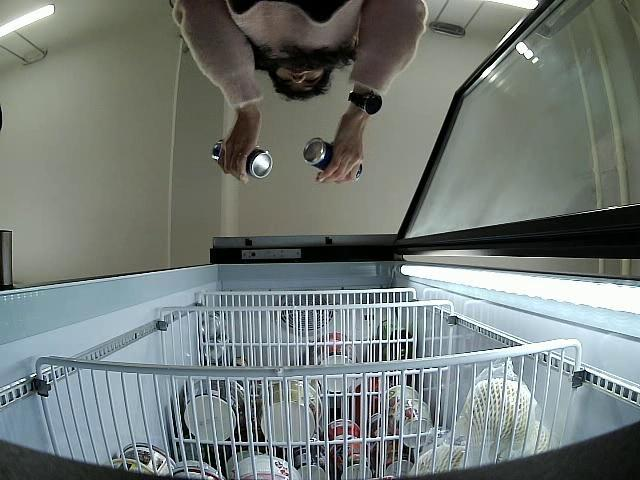16_hot6: (302, 137, 362, 182), (212, 139, 274, 180)
